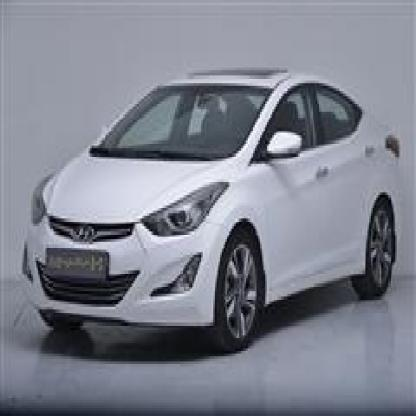Car: (11, 73, 402, 343)
